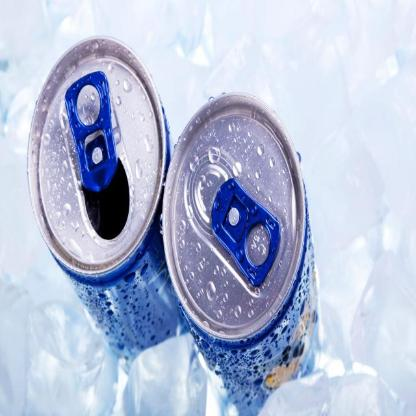Can: (162, 90, 336, 416), (23, 10, 174, 372)
